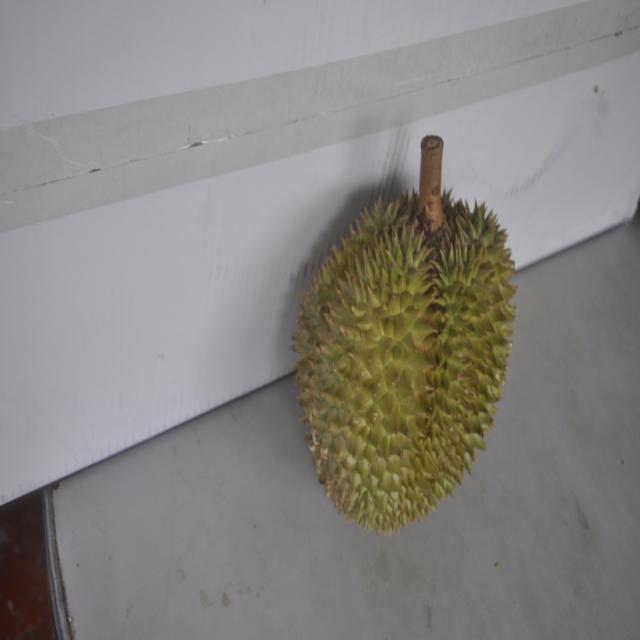mature: (292, 139, 519, 530)
